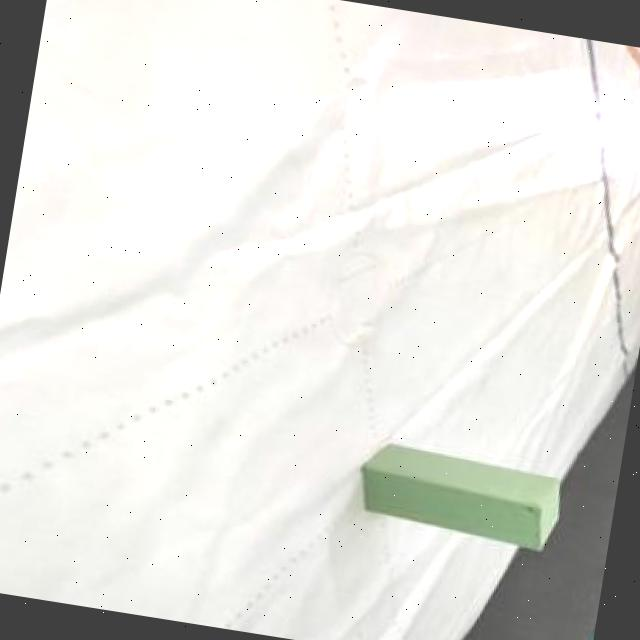greenbox: (350, 436, 569, 554)
